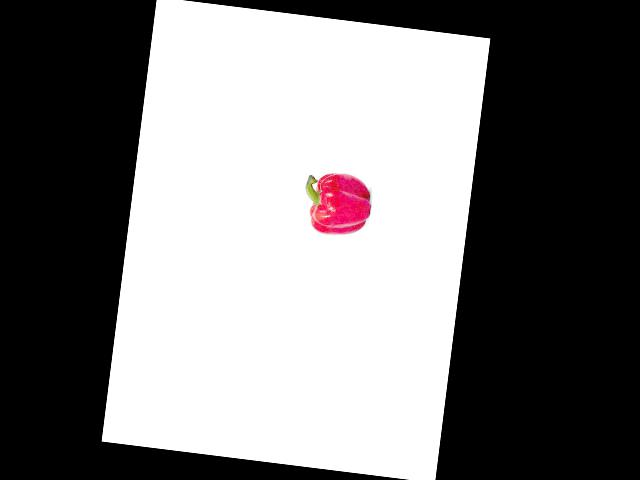bell_pepper: (298, 167, 374, 242)
